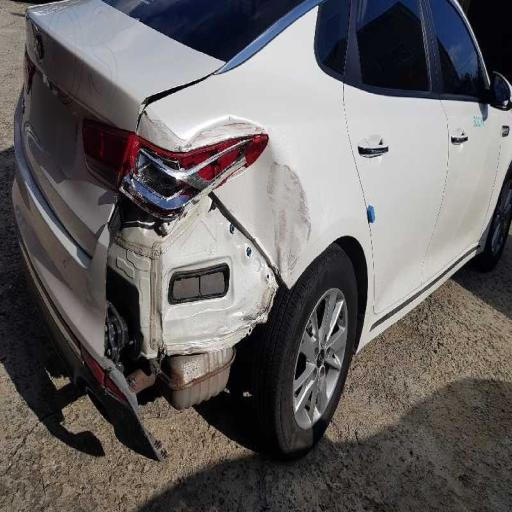broken: (86, 62, 348, 437)
